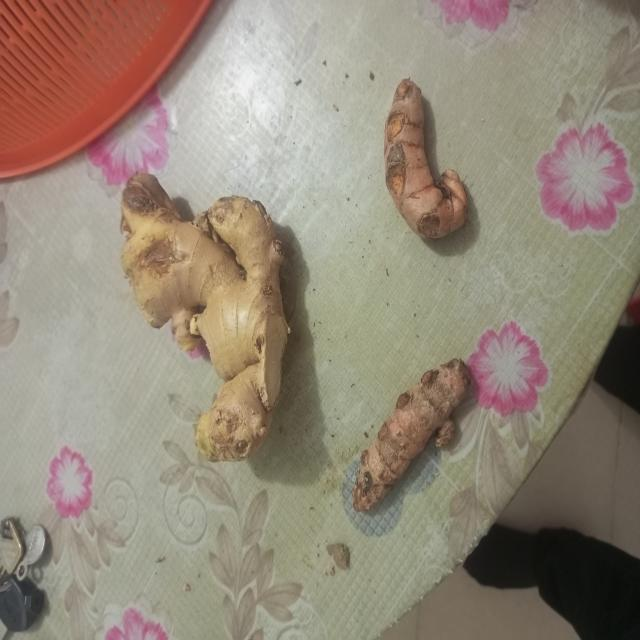ginger: (128, 178, 284, 460), (350, 356, 464, 502), (386, 84, 464, 247)
